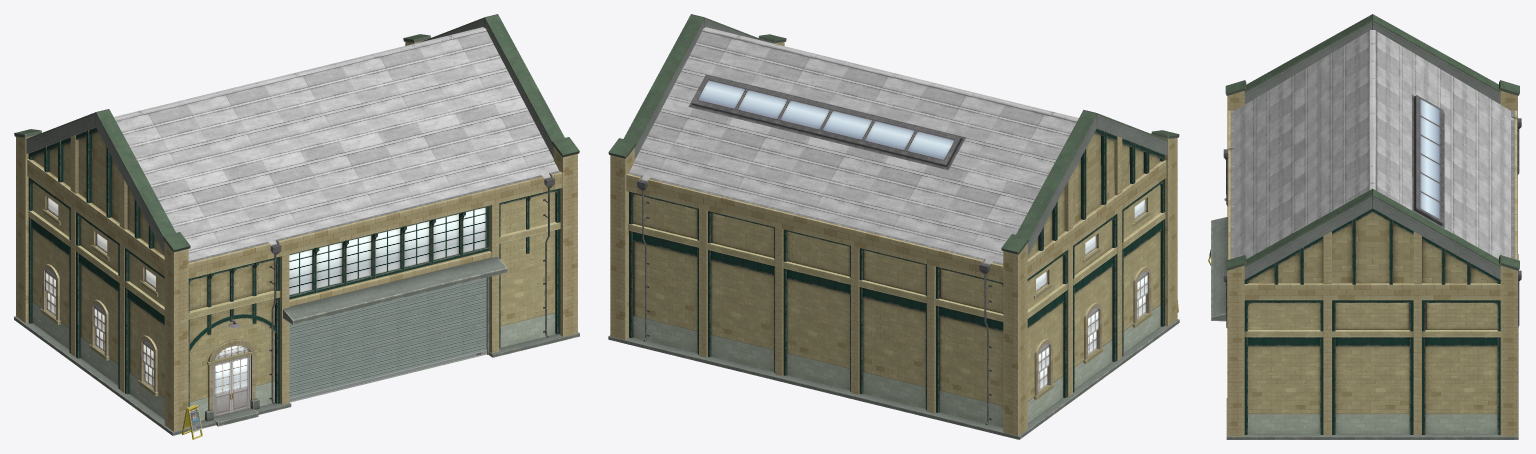
Rendered from t1_b_garage.glb.
3 views of the same model, side by side, from view 1: azimuth 30°, elevation 25°; view 2: azimuth 150°, elevation 25°; view 3: azimuth 270°, elevation 25° (orthographic). The views are drawn at different scales.
Visible parts, largest first — view 1: nomerge_displaymesh, um_t1_b_garage_model_t1_b_garage_modelShape; view 2: nomerge_displaymesh, um_t1_b_garage_model_t1_b_garage_modelShape; view 3: nomerge_displaymesh, um_t1_b_garage_model_t1_b_garage_modelShape.
Part boxes in pixels (left/top/right/bottom): nomerge_displaymesh: left=14, top=14, right=579, bottom=439; um_t1_b_garage_model_t1_b_garage_modelShape: left=114, top=27, right=558, bottom=260; nomerge_displaymesh: left=608, top=14, right=1179, bottom=439; um_t1_b_garage_model_t1_b_garage_modelShape: left=629, top=27, right=1078, bottom=264; nomerge_displaymesh: left=1208, top=14, right=1521, bottom=439; um_t1_b_garage_model_t1_b_garage_modelShape: left=1230, top=30, right=1514, bottom=258.
Size of the model in its own units: 21.54 by 13.4 by 15.6.
Materials: 4 (4 with a texture image).
